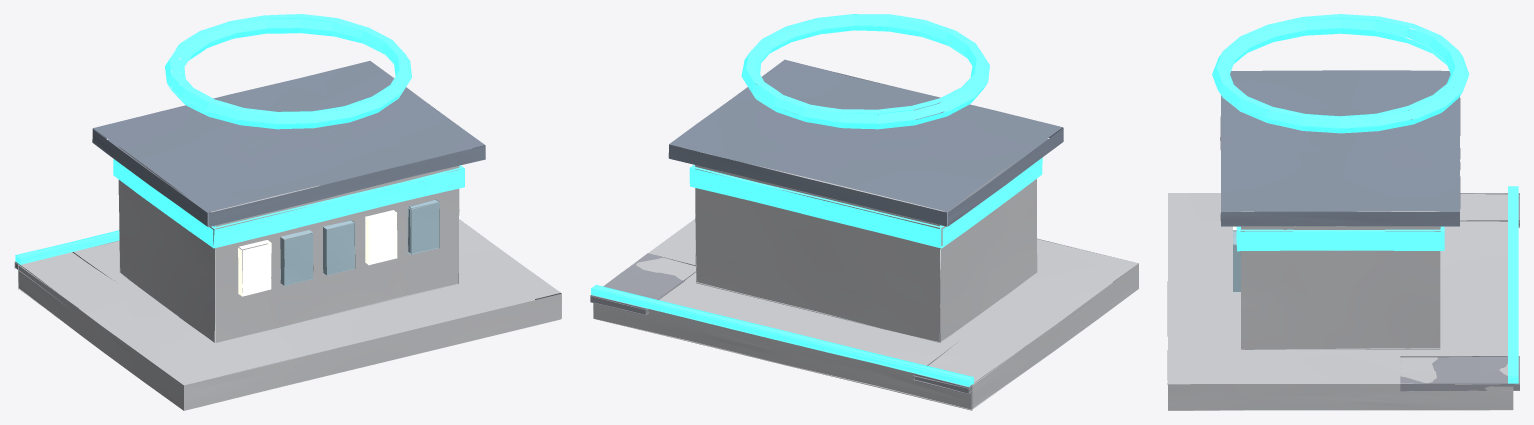
File: interchange.glb
3 renders of one model, left to right at view 1: azimuth 30°, elevation 25°; view 2: azimuth 150°, elevation 25°; view 3: azimuth 270°, elevation 25°, orthographic. The views are drawn at different scales.
Visible parts, largest first — view 1: MetroInterchange; view 2: MetroInterchange; view 3: MetroInterchange.
Boxes of the visible parts, x1,y1,x2,y2 form: MetroInterchange: [14, 14, 561, 410]; MetroInterchange: [590, 14, 1138, 410]; MetroInterchange: [1167, 14, 1519, 410].
Bounding box in the file's own units: 3.41 × 2.07 × 2.66.
